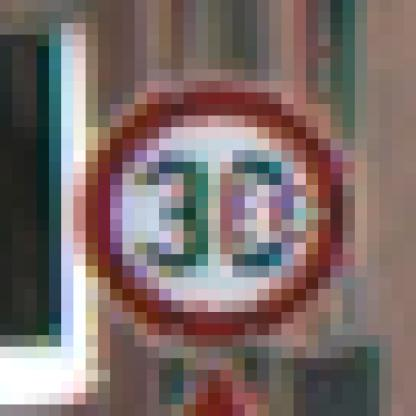Speed Limit 30: (88, 87, 342, 337)
